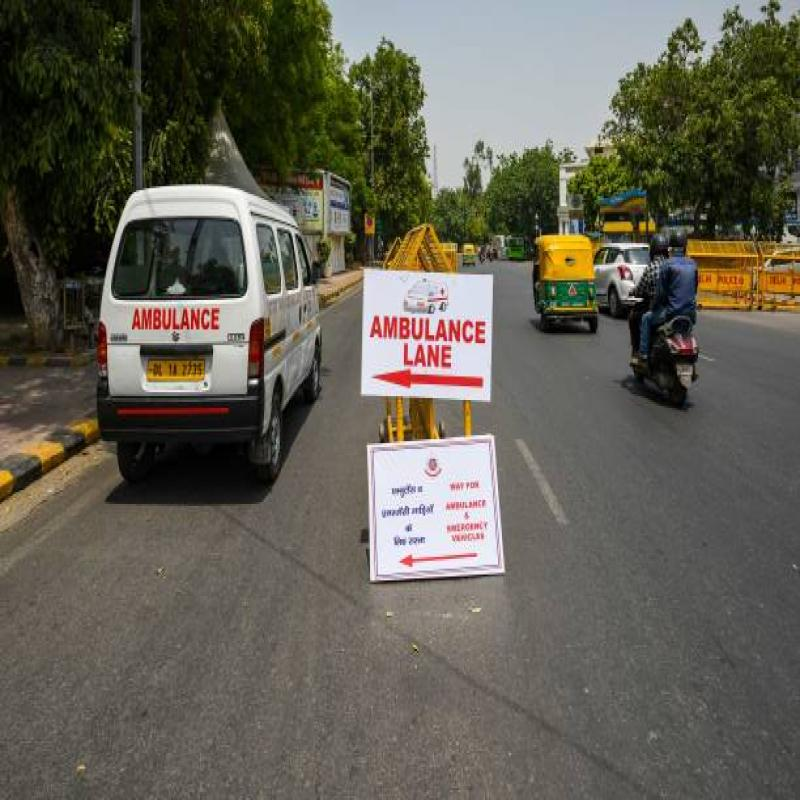ambulance: (113, 178, 297, 506)
